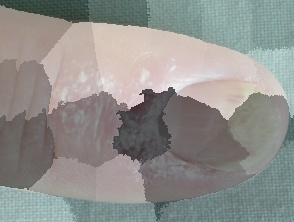Nail_psoriasis: (36, 46, 286, 189)
